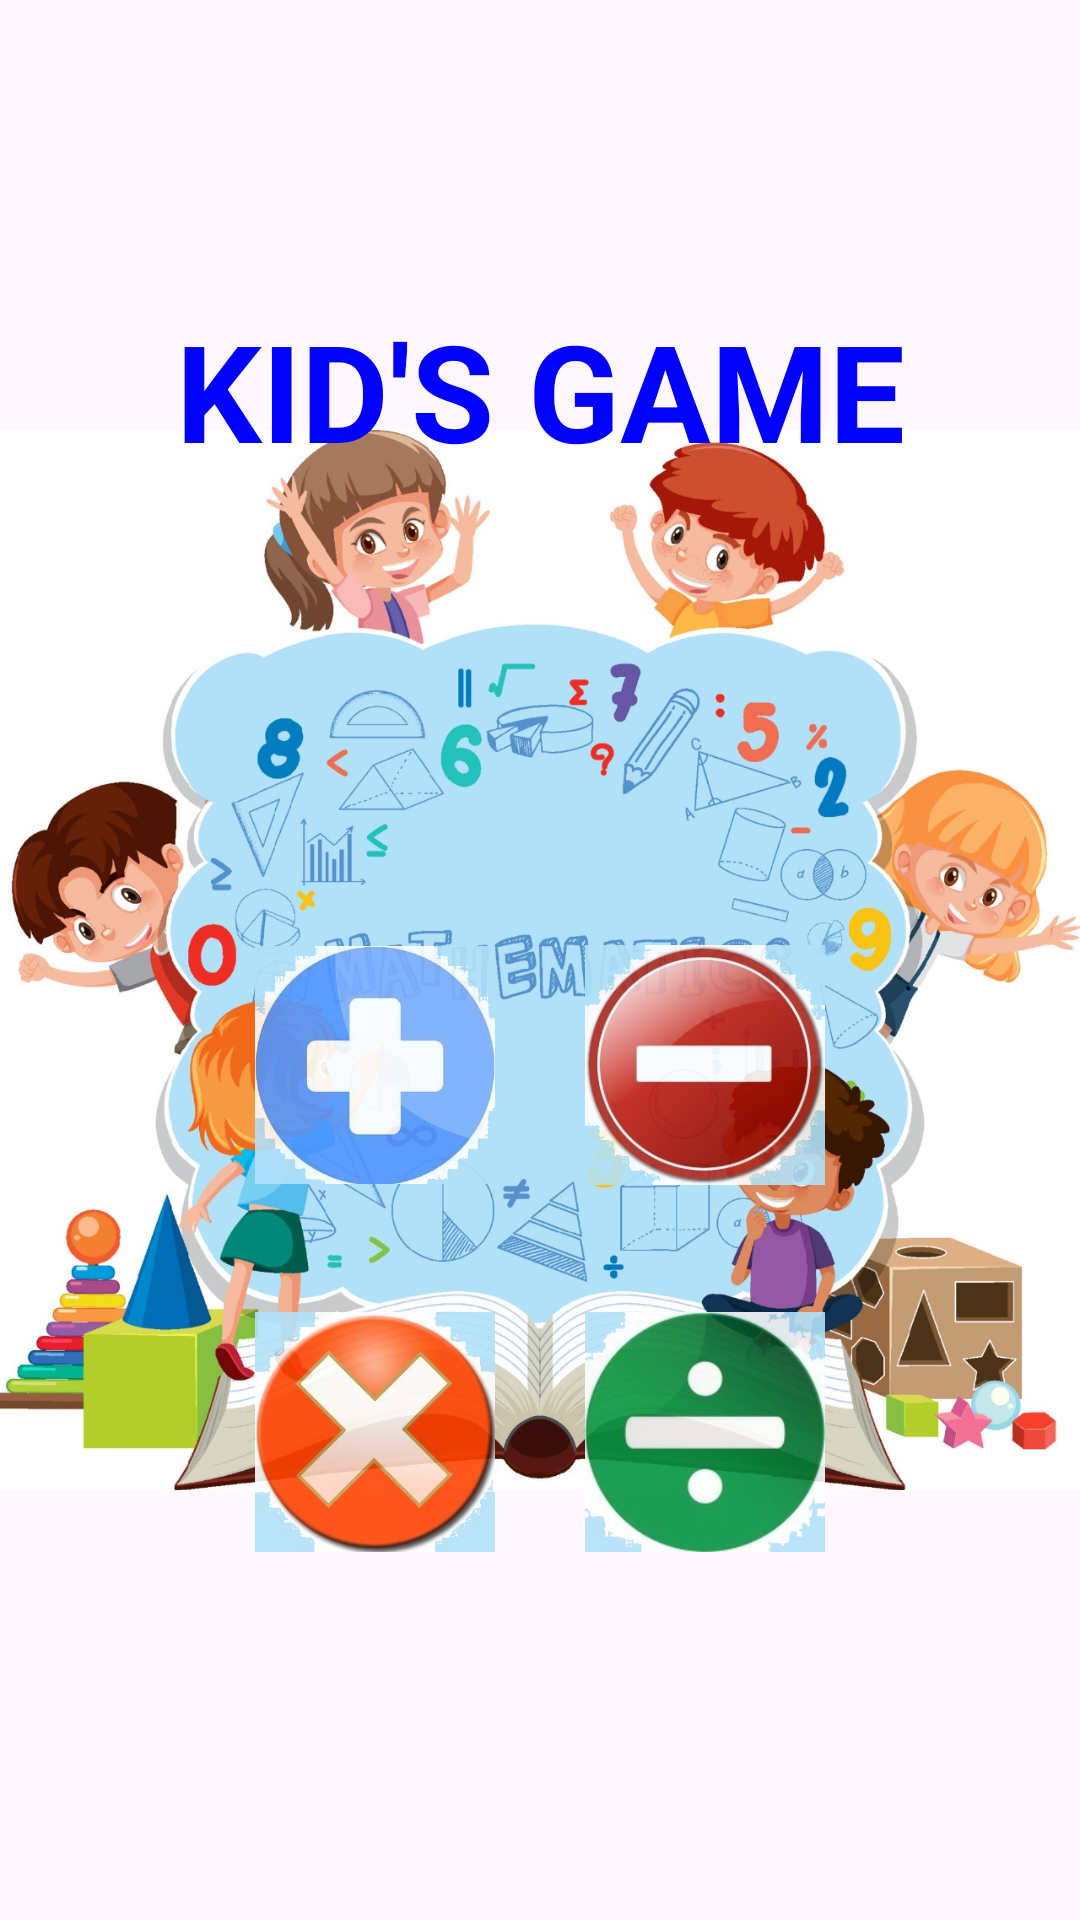

Point at icon controls on the screen. Image size 1080 x 1920, points as point (x, y).
addition: point (375, 1065)
division: point (705, 1432)
multiply: point (375, 1432)
subtraction: point (705, 1065)
